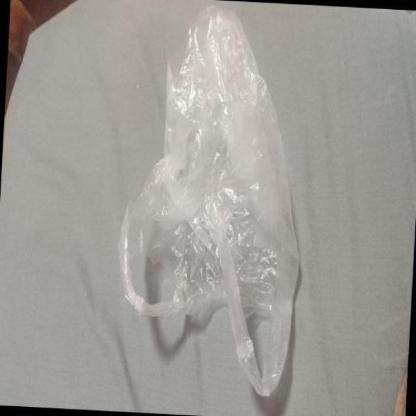Plastic Bag: (121, 3, 301, 393)
